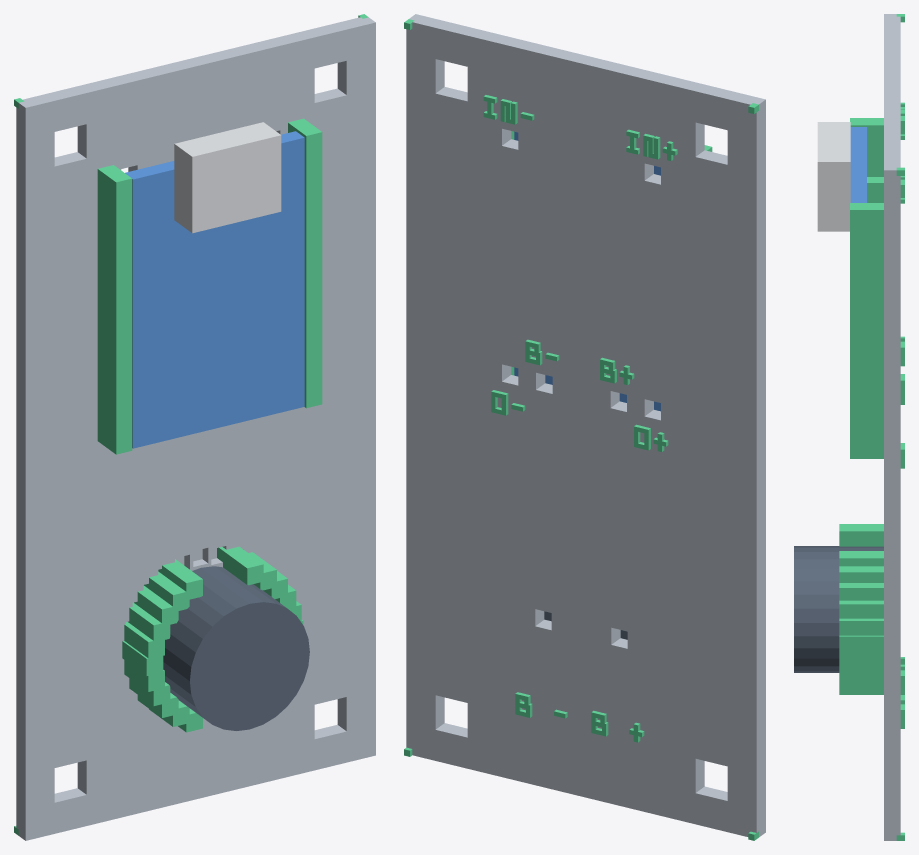
The model's file is simulacion_placa_potencia_35x70.glb.
The picture shows the model from 3 angles, left to right: view 1: azimuth 30°, elevation 25°; view 2: azimuth 150°, elevation 25°; view 3: azimuth 270°, elevation 25°; orthographic projection. The views are drawn at different scales.
Parts seen in each view (by area): view 1: Baquelita_Potencia_35x70_Gris, Modulo_TP4056_Azul, Cunas_TP4056_Y_Buzzer_Verde, Buzzer_En_Placa_Negro, Puerto_USBC_Plata; view 2: Baquelita_Potencia_35x70_Gris, Cunas_TP4056_Y_Buzzer_Verde; view 3: Cunas_TP4056_Y_Buzzer_Verde, Baquelita_Potencia_35x70_Gris, Buzzer_En_Placa_Negro, Puerto_USBC_Plata, Modulo_TP4056_Azul.
Part boxes in pixels (x1,y1,x2,y2): Baquelita_Potencia_35x70_Gris: [16, 17, 375, 840]; Modulo_TP4056_Azul: [125, 131, 304, 448]; Cunas_TP4056_Y_Buzzer_Verde: [14, 14, 368, 835]; Buzzer_En_Placa_Negro: [163, 566, 309, 730]; Puerto_USBC_Plata: [174, 122, 281, 233]; Baquelita_Potencia_35x70_Gris: [406, 14, 765, 837]; Cunas_TP4056_Y_Buzzer_Verde: [404, 19, 758, 840]; Cunas_TP4056_Y_Buzzer_Verde: [839, 14, 904, 840]; Baquelita_Potencia_35x70_Gris: [884, 14, 900, 840]; Buzzer_En_Placa_Negro: [794, 546, 883, 672]; Puerto_USBC_Plata: [817, 122, 850, 231]; Modulo_TP4056_Azul: [850, 127, 866, 202].
Size of the model in its own units: 35 by 70 by 10.5.
